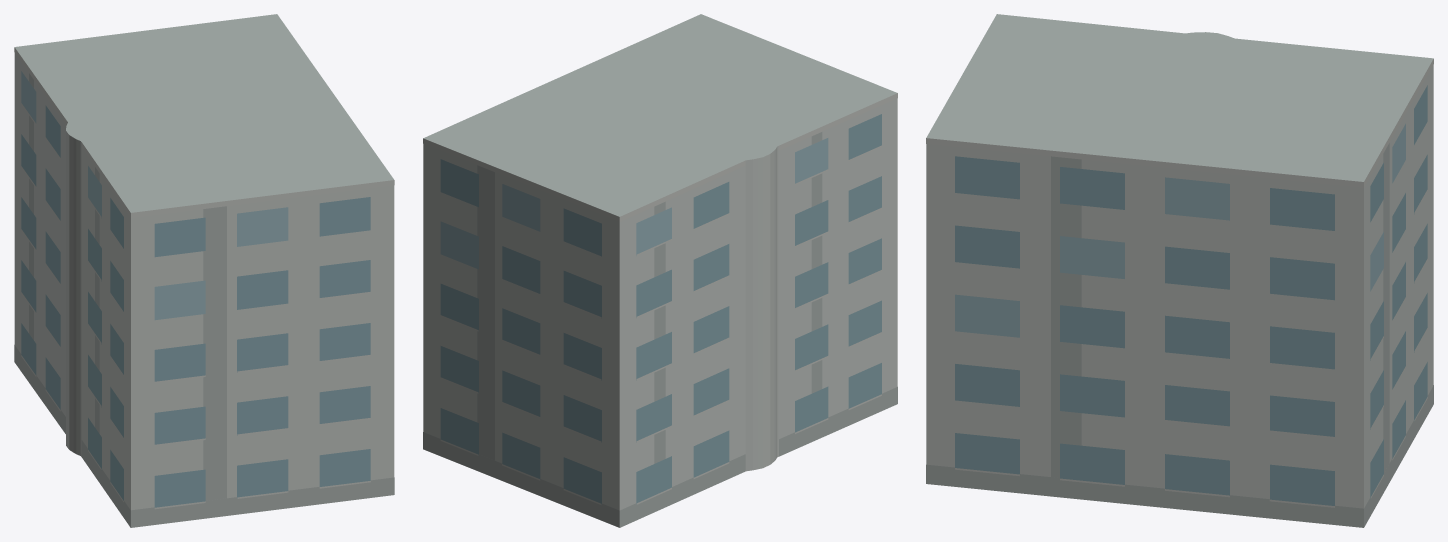
File: survey-upis-33005309.glb
3 renders of one model, left to right at view 1: azimuth 30°, elevation 25°; view 2: azimuth 150°, elevation 25°; view 3: azimuth 270°, elevation 25°, orthographic. The views are drawn at different scales.
Visible parts, largest first — view 1: survey-upis-33005309.tmp; view 2: survey-upis-33005309.tmp; view 3: survey-upis-33005309.tmp.
Part boxes in pixels (box(x1,y1,x2,y2)): survey-upis-33005309.tmp: box(14, 14, 394, 527); survey-upis-33005309.tmp: box(423, 14, 897, 527); survey-upis-33005309.tmp: box(926, 14, 1433, 527).
Size of the model in its own units: 15.12 by 14.5 by 19.3.
